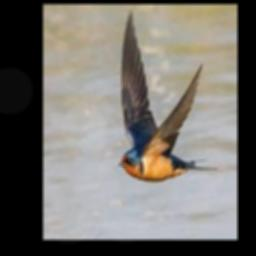Swallow: (117, 9, 217, 180)
